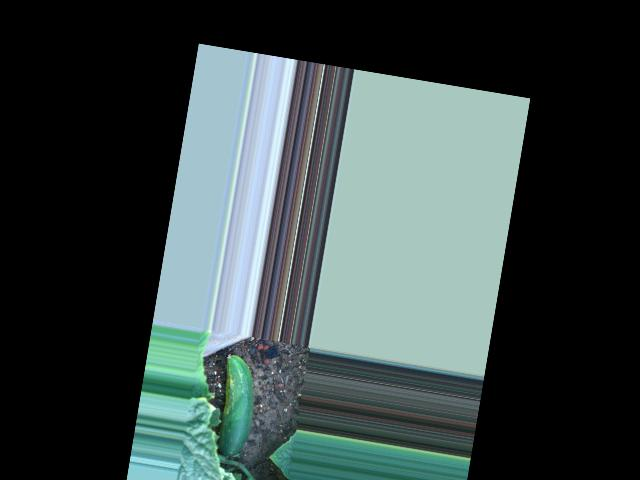cucumber: (211, 353, 261, 458)
